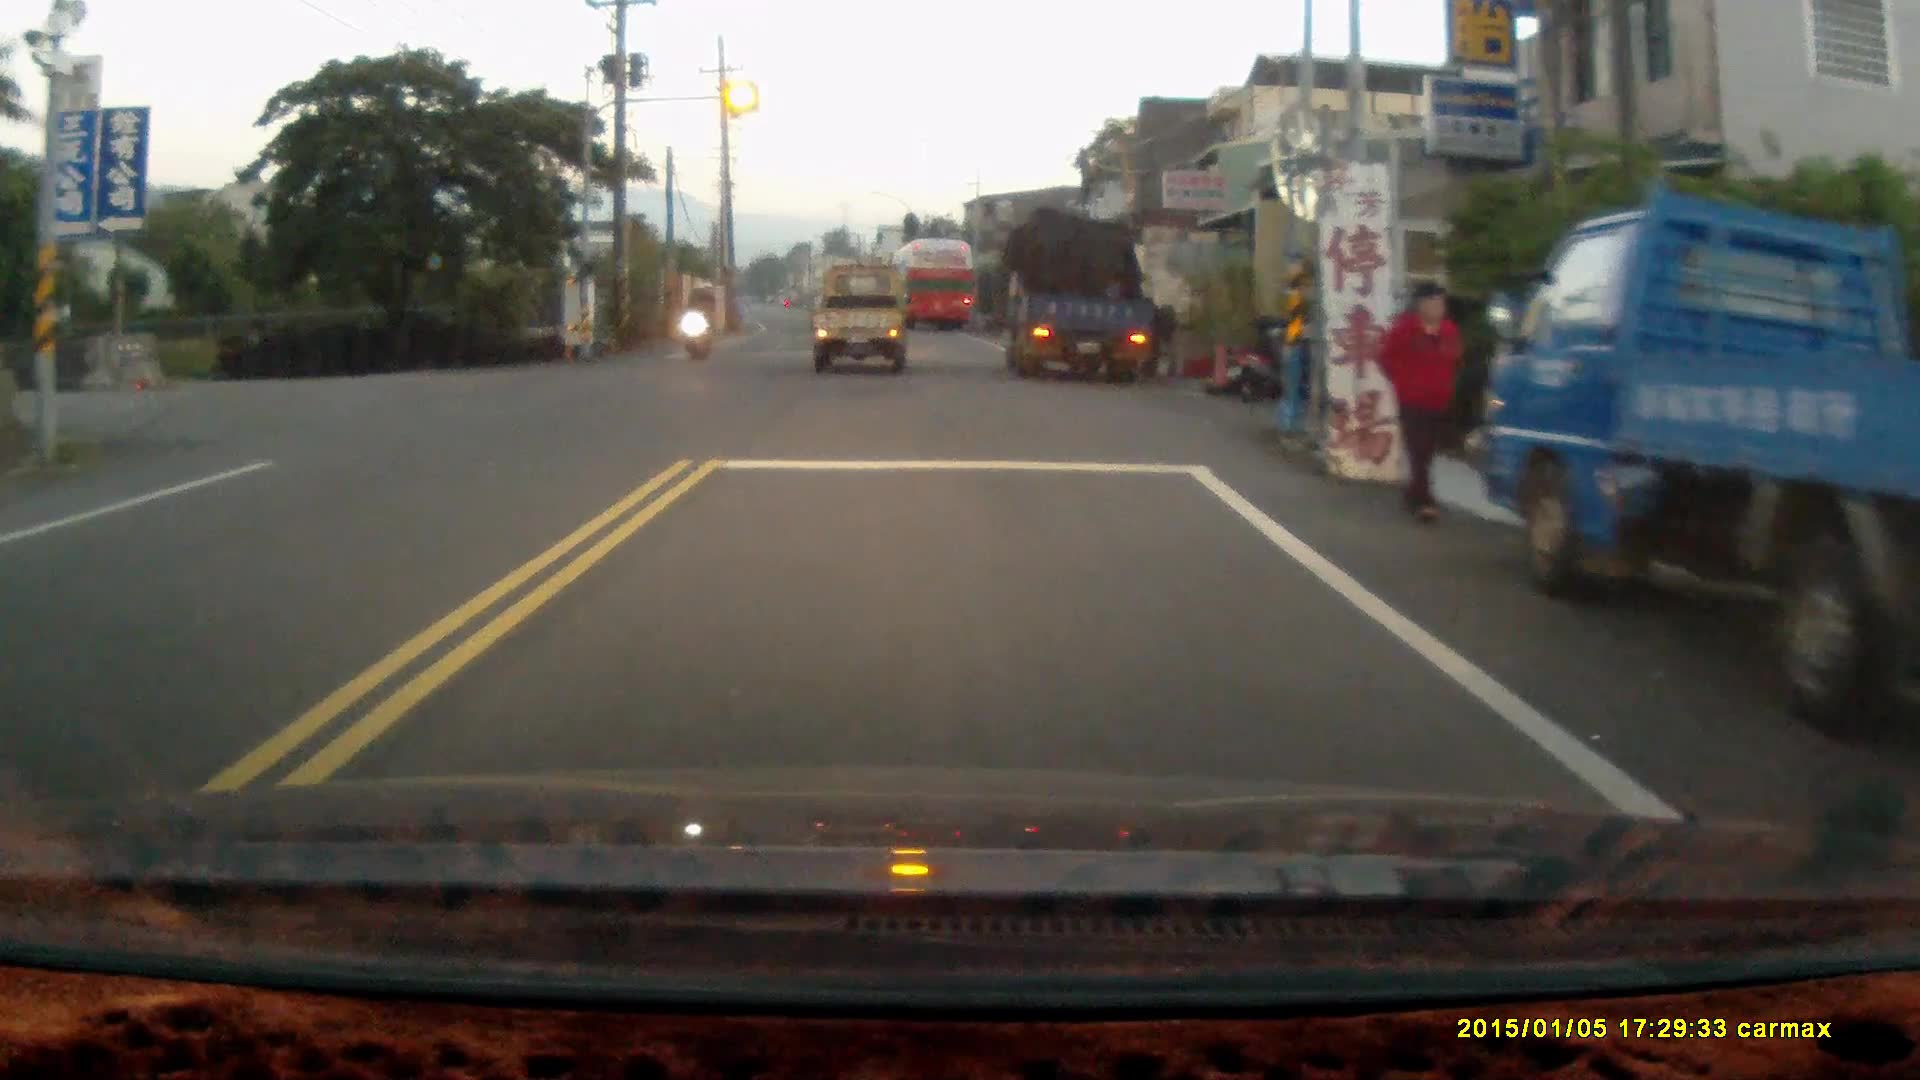pedestrian: (1379, 278, 1462, 526)
rider: (679, 281, 714, 359)
vehicle: (1480, 186, 1917, 767), (996, 206, 1167, 386), (810, 264, 908, 372), (887, 238, 974, 329)
